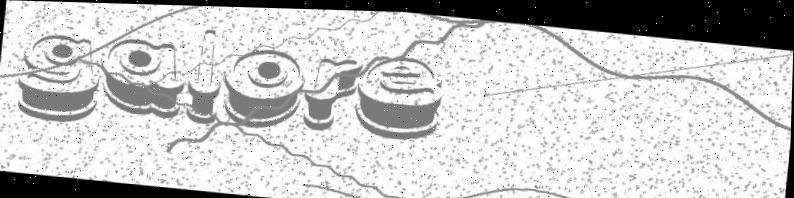a: (99, 37, 188, 119)
e: (353, 49, 446, 139)
g: (16, 31, 103, 123)
l: (186, 27, 225, 124)
o: (222, 44, 306, 129)
r: (303, 53, 362, 132)
